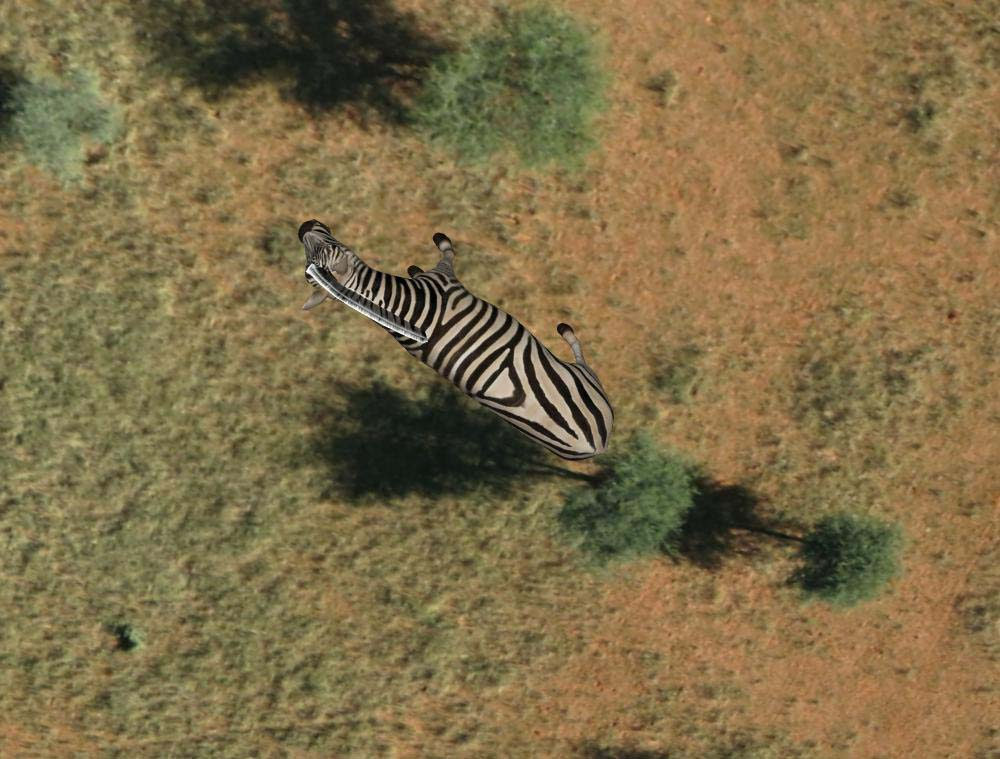zebra: (290, 208, 615, 467)
